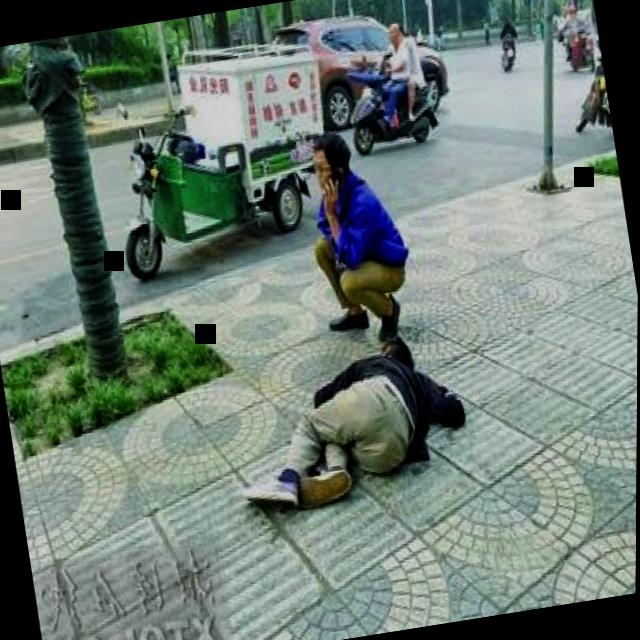Fall-Detected: (215, 310, 500, 528)
